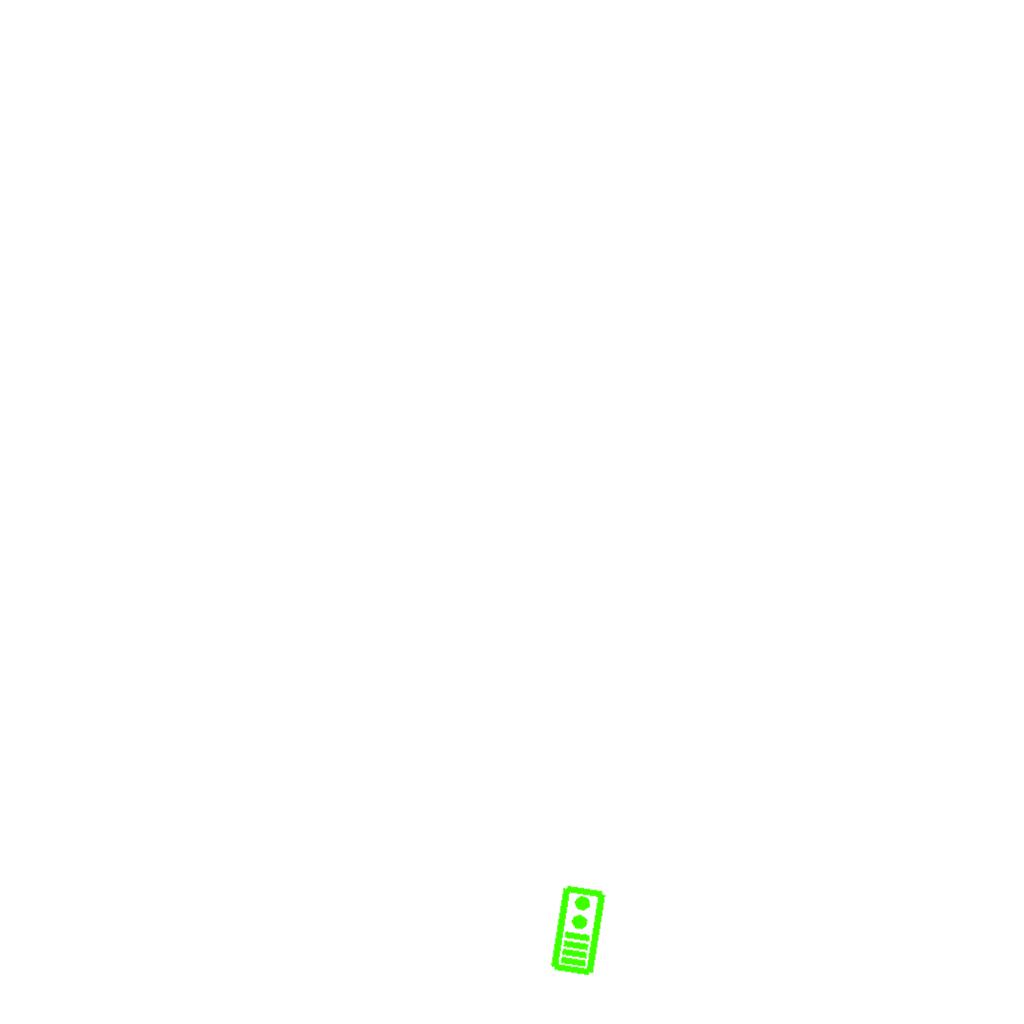Gegensprechanlage_mit_Video: (547, 882, 608, 978)
